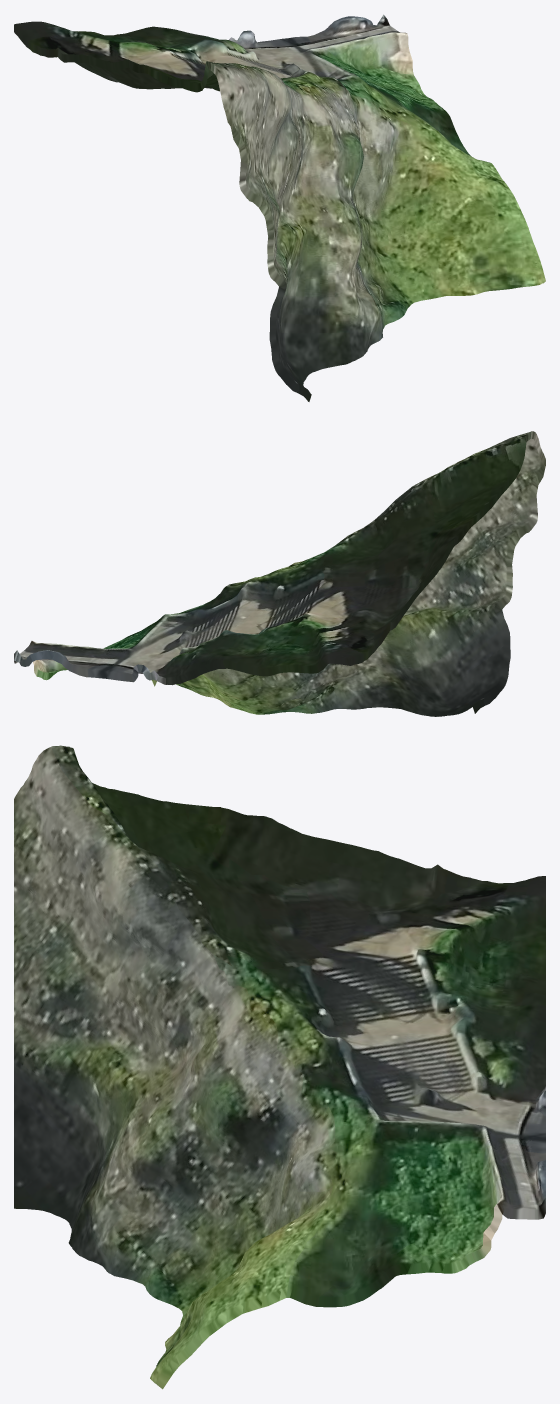
The model's file is z20-167754-405191-h1-yup-uvflip-v3-world.glb.
The picture shows the model from 3 angles, top to bottom: view 1: azimuth 30°, elevation 25°; view 2: azimuth 150°, elevation 25°; view 3: azimuth 270°, elevation 25°; orthographic projection. The views are drawn at different scales.
Size of the model in its own units: 30.16 by 26.64 by 30.32.
Materials: 1 (1 with a texture image).
